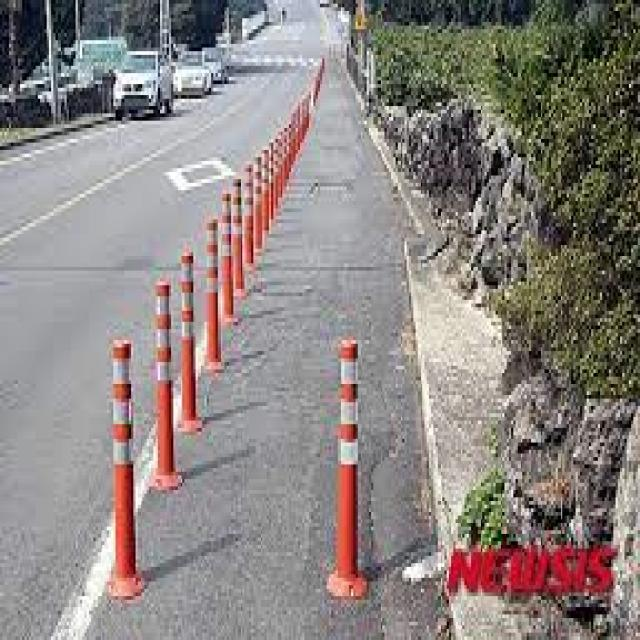bollard: (101, 335, 149, 612), (331, 329, 372, 612), (147, 276, 184, 505), (176, 242, 206, 450), (192, 212, 226, 380), (218, 189, 238, 336), (226, 177, 246, 310), (237, 160, 257, 290), (248, 146, 266, 263), (260, 140, 271, 250), (267, 125, 276, 241), (272, 128, 283, 219), (288, 108, 301, 164), (280, 123, 289, 198), (292, 98, 306, 140), (286, 120, 294, 177), (302, 87, 313, 128)
